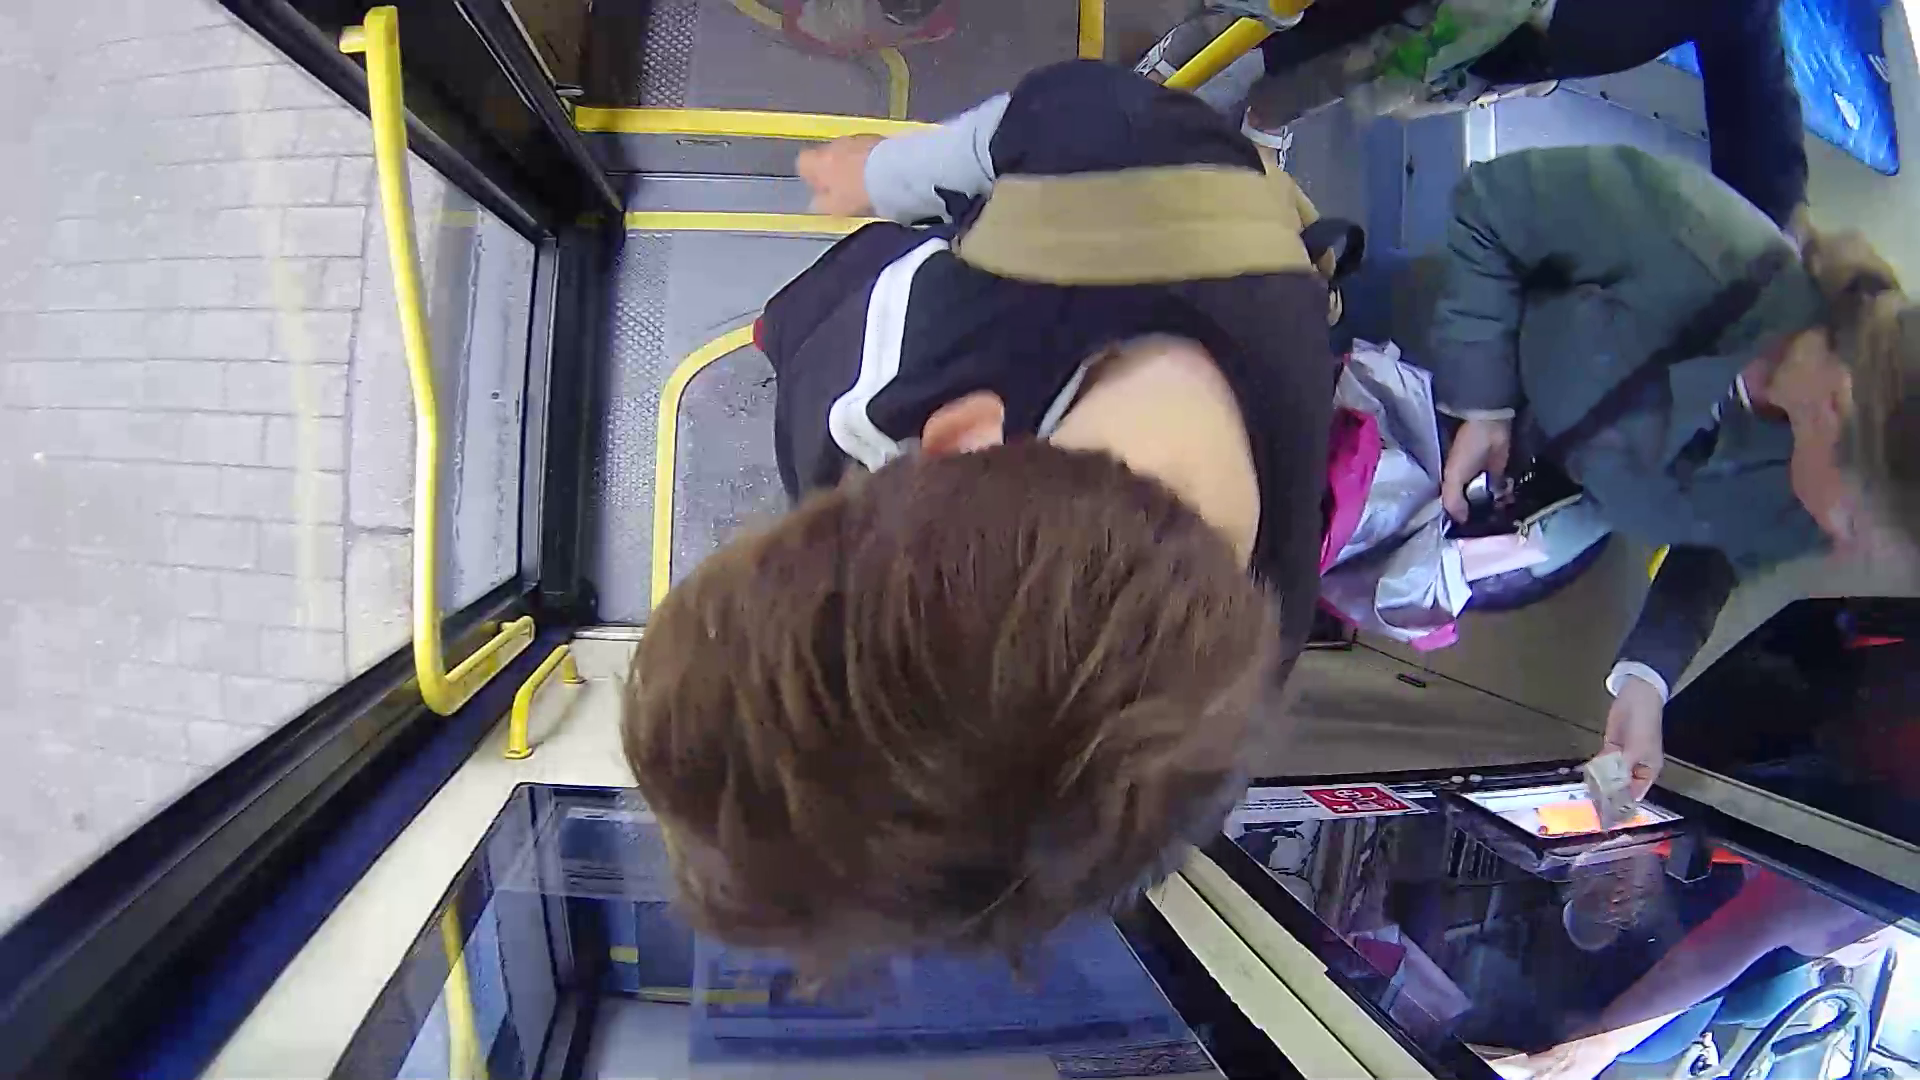person: (570, 92, 1400, 932)
